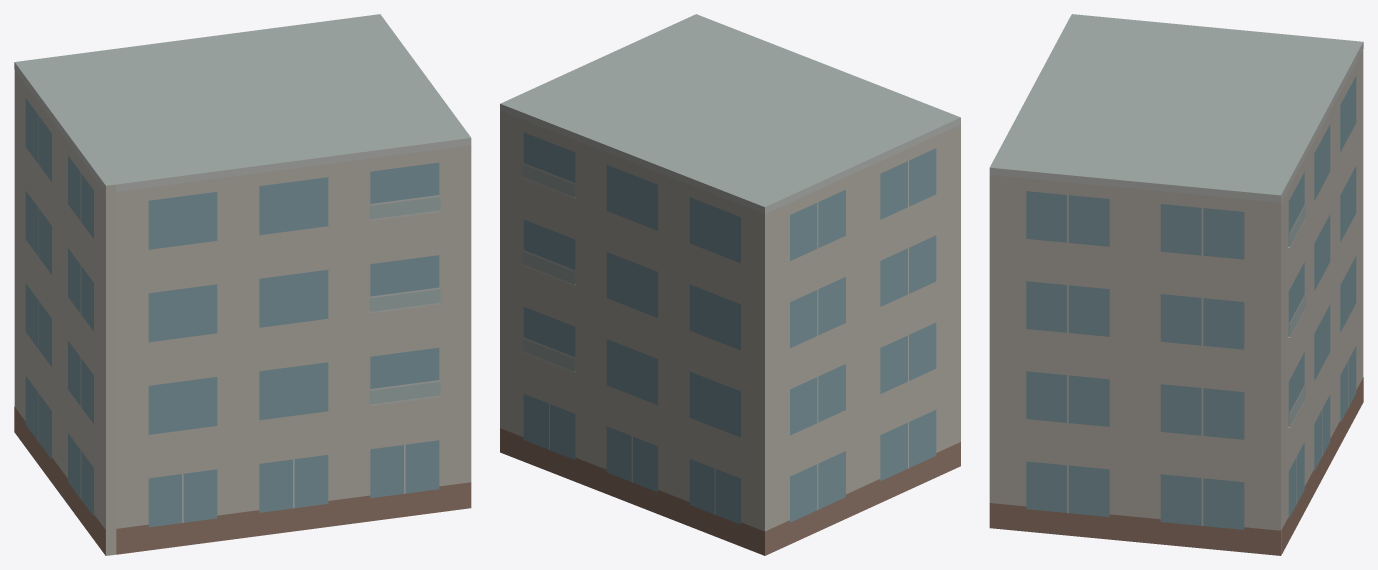
Rendered from residential-d4740129-11f9-4838-a1b6-20211aa8e22a.glb.
3 renders of one model, left to right at view 1: azimuth 30°, elevation 25°; view 2: azimuth 150°, elevation 25°; view 3: azimuth 270°, elevation 25°, orthographic. The views are drawn at different scales.
Parts seen in each view (by area): view 1: residential-d4740129-11f9-4838-a1b6-20211aa8e22a.tmp; view 2: residential-d4740129-11f9-4838-a1b6-20211aa8e22a.tmp; view 3: residential-d4740129-11f9-4838-a1b6-20211aa8e22a.tmp.
Boxes of the visible parts, x1,y1,x2,y2 form: residential-d4740129-11f9-4838-a1b6-20211aa8e22a.tmp: [14, 14, 471, 555]; residential-d4740129-11f9-4838-a1b6-20211aa8e22a.tmp: [500, 14, 960, 555]; residential-d4740129-11f9-4838-a1b6-20211aa8e22a.tmp: [989, 14, 1363, 555].
Bounding box in the file's own units: 13.18 × 12.2 × 11.48.
